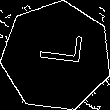L_W: (30, 38, 83, 75)
